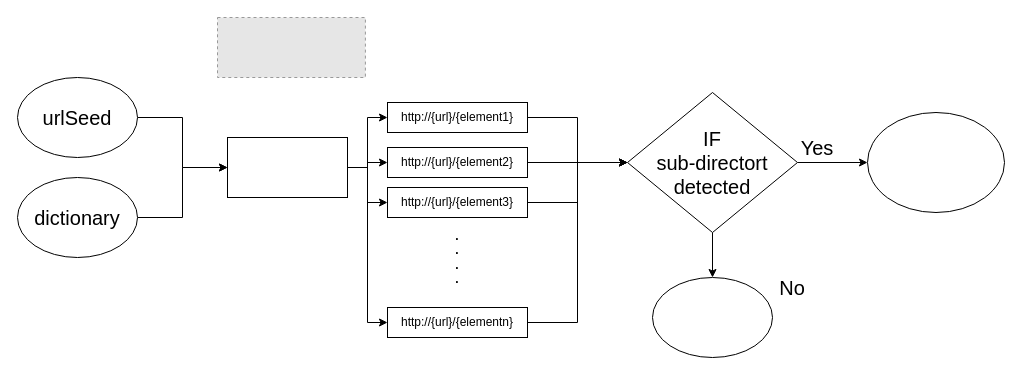
Some shapes in this 1022 by 375 pixel diagram are drawn without their labels. Grey dashed boxes stand in for pictures. The shapes that lost their labels are listed below. From the top down, each one's centre as x and y in pixels, then its label:
[287,167]: ffuf
[935,162]: recursive fuzzing queue
[712,317]: Result
